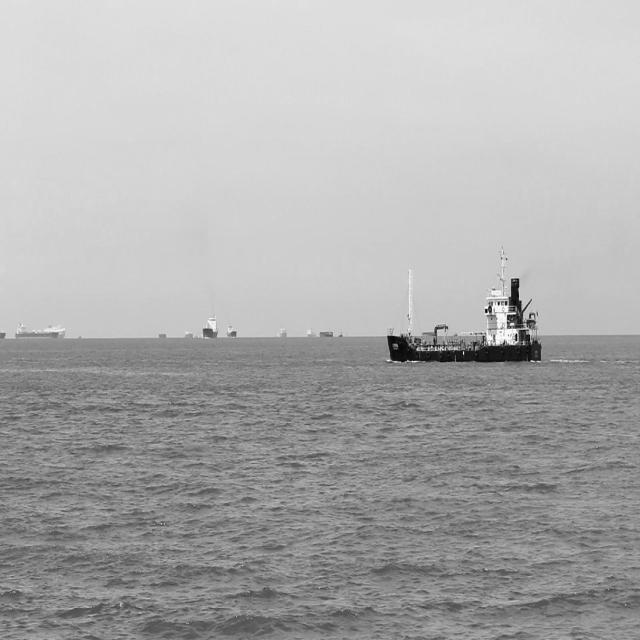ship: (385, 239, 544, 366), (14, 318, 66, 341), (202, 308, 222, 341), (224, 321, 238, 342), (275, 325, 289, 343), (318, 326, 333, 340), (306, 326, 316, 342), (181, 331, 195, 342), (156, 330, 169, 340), (336, 326, 343, 341)
